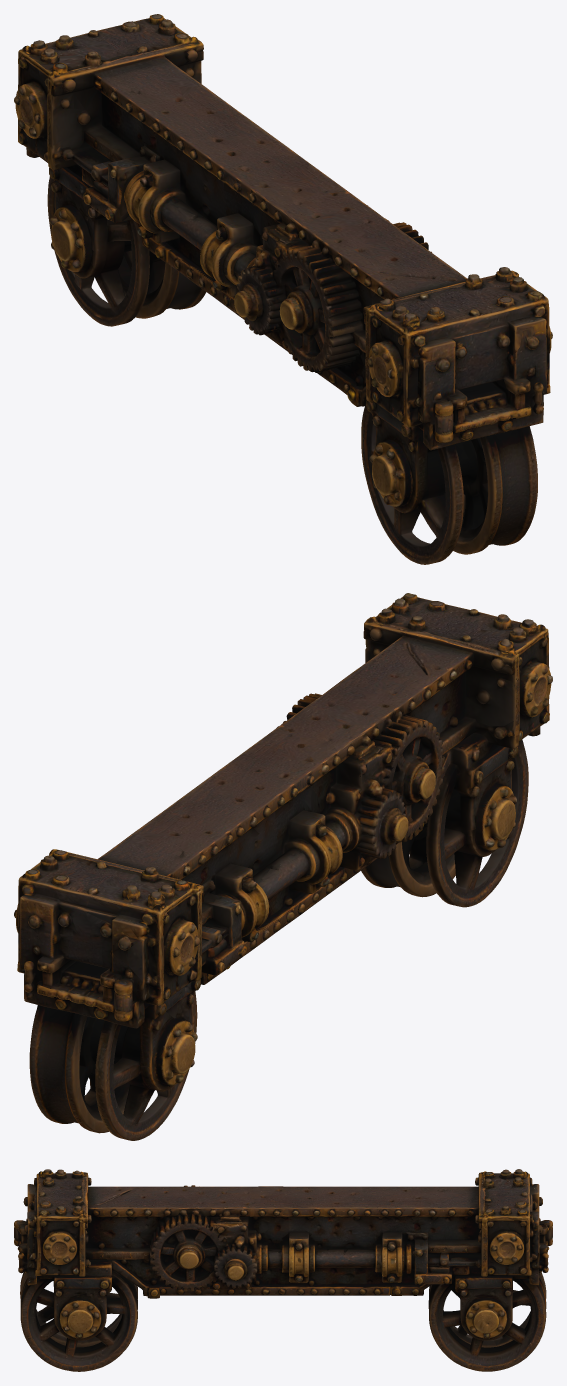
The model's file is raw_endtruck.glb.
3 renders of one model, top to bottom at view 1: azimuth 30°, elevation 25°; view 2: azimuth 150°, elevation 25°; view 3: azimuth 270°, elevation 25°, orthographic. The views are drawn at different scales.
Visible parts, largest first — view 1: endtruck; view 2: endtruck; view 3: endtruck.
Boxes of the visible parts, left/top/right/bottom form: endtruck: left=14, top=14, right=552, bottom=564; endtruck: left=14, top=593, right=552, bottom=1140; endtruck: left=14, top=1169, right=552, bottom=1371.
Bounding box in the file's own units: 0.2253 × 0.3472 × 1.
1 material, 1 textured.
